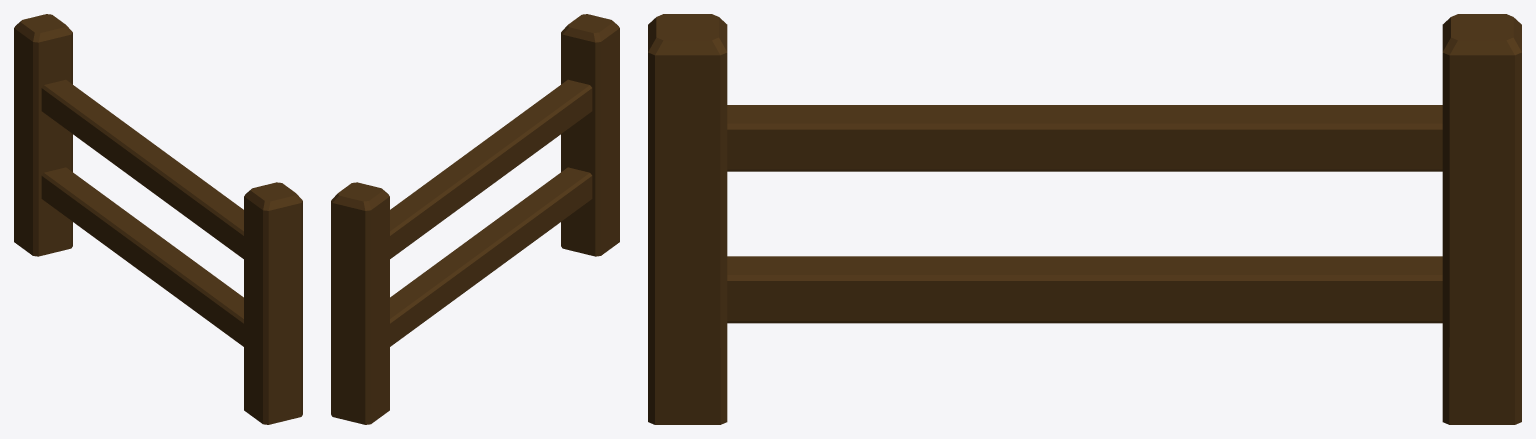
Rendered from fence 1.fbx.
3 views of the same model, side by side, from view 1: azimuth 30°, elevation 25°; view 2: azimuth 150°, elevation 25°; view 3: azimuth 270°, elevation 25° (orthographic). The views are drawn at different scales.
Parts seen in each view (by area): view 1: Cube.019; view 2: Cube.019; view 3: Cube.019.
Boxes of the visible parts, x1=… form: Cube.019: x1=14, y1=14, x2=302, y2=424; Cube.019: x1=331, y1=14, x2=619, y2=424; Cube.019: x1=648, y1=14, x2=1521, y2=424.
Bounding box in the file's own units: 14.49 × 76.66 × 159.
